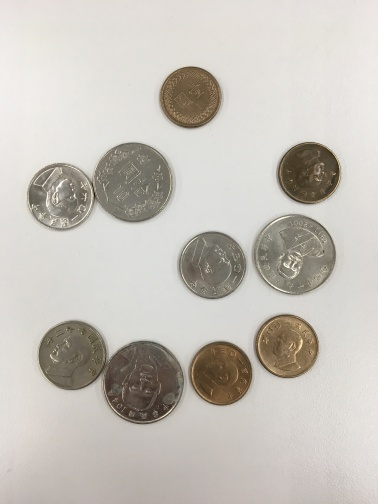1 dollar: (274, 128, 356, 213), (152, 60, 236, 136), (252, 312, 330, 393), (182, 335, 257, 411)
10 dollar: (247, 204, 344, 302), (98, 335, 198, 430), (86, 136, 179, 230)
5 dollar: (27, 306, 109, 398), (21, 153, 95, 240), (175, 223, 249, 307)
